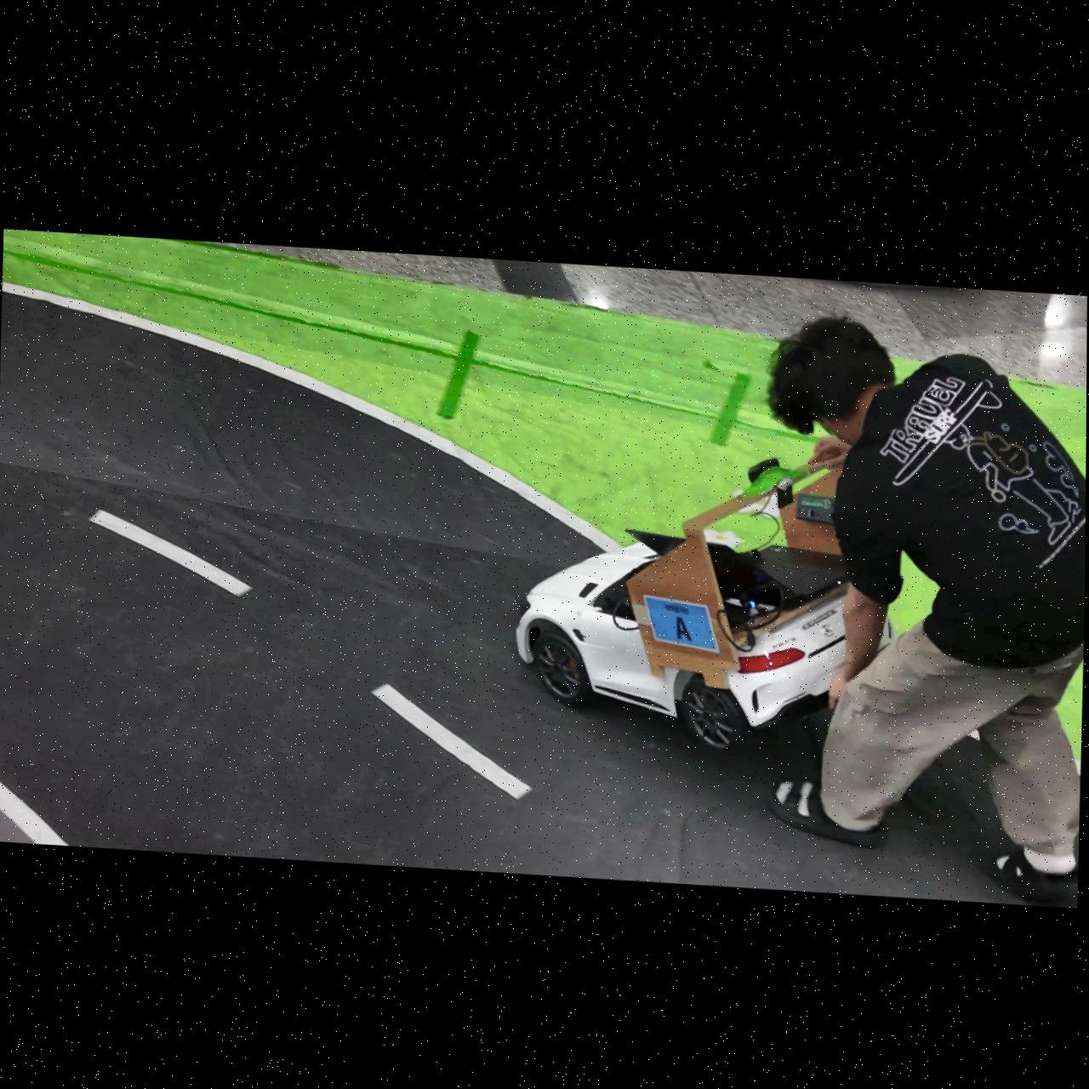broken_line: (372, 684, 530, 798), (89, 510, 251, 596)
